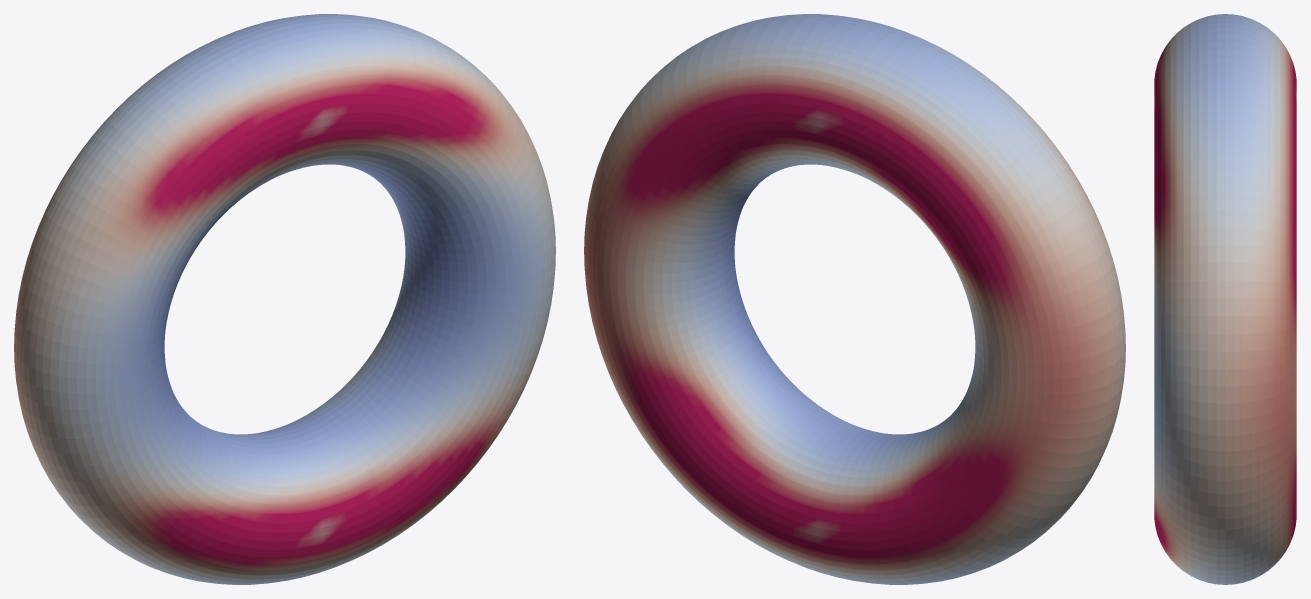
The picture shows the model from 3 angles, left to right: view 1: azimuth 30°, elevation 25°; view 2: azimuth 150°, elevation 25°; view 3: azimuth 270°, elevation 25°; orthographic projection. The views are drawn at different scales.
Parts seen in each view (by area): view 1: world; view 2: world; view 3: world.
Part boxes in pixels (x1,y1,x2,y2): world: [14, 14, 555, 584]; world: [584, 14, 1125, 584]; world: [1154, 14, 1296, 584].
Bounding box in the file's own units: 24 × 24 × 5.99.
